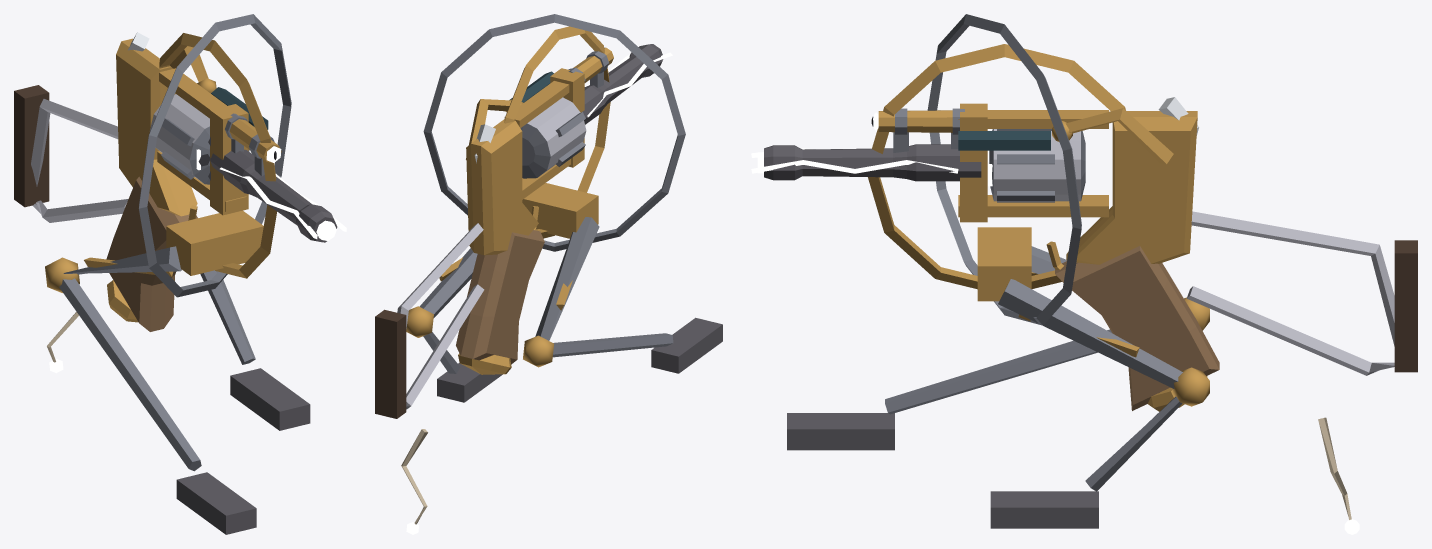
Rendered from gun-running-gun.glb.
3 views of the same model, side by side, from view 1: azimuth 30°, elevation 25°; view 2: azimuth 150°, elevation 25°; view 3: azimuth 270°, elevation 25° (orthographic). The views are drawn at different scales.
Parts seen in each view (by area): view 1: gun-running-gun, pulse_vein, sway_sinew; view 2: gun-running-gun, sway_sinew, pulse_vein; view 3: gun-running-gun, pulse_vein, sway_sinew.
Part boxes in pixels (x1,y1,x2,y2): gun-running-gun: (14, 14, 337, 534); pulse_vein: (220, 167, 346, 238); sway_sinew: (47, 312, 78, 373); gun-running-gun: (375, 14, 722, 418); sway_sinew: (401, 429, 427, 534); pulse_vein: (585, 52, 672, 117); gun-running-gun: (757, 14, 1417, 528); pulse_vein: (751, 148, 958, 173); sway_sinew: (1318, 417, 1359, 534).
Size of the model in its own units: 0.3651 by 0.7296 by 0.8632.
